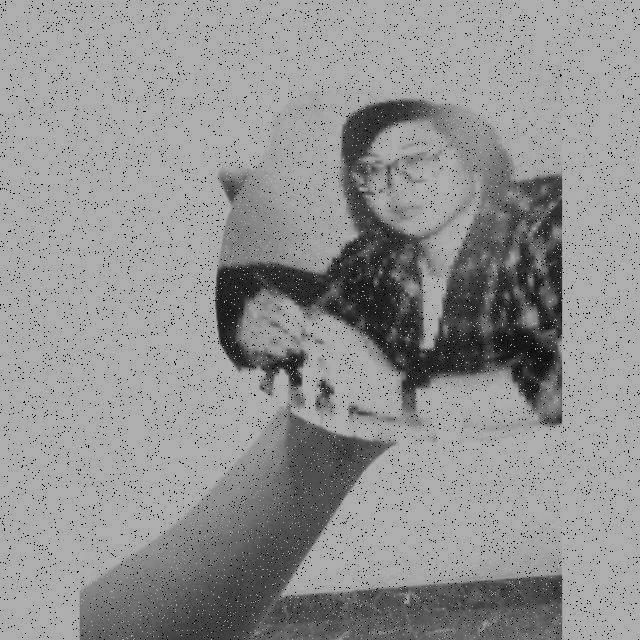fake: (198, 41, 562, 462)
